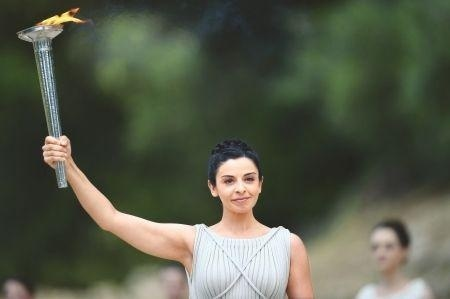fire: (33, 4, 83, 27)
